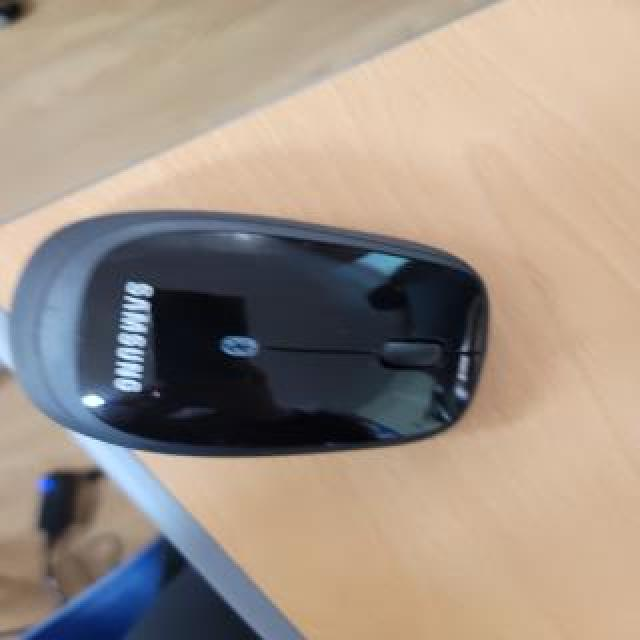mouse: (32, 188, 504, 477)
